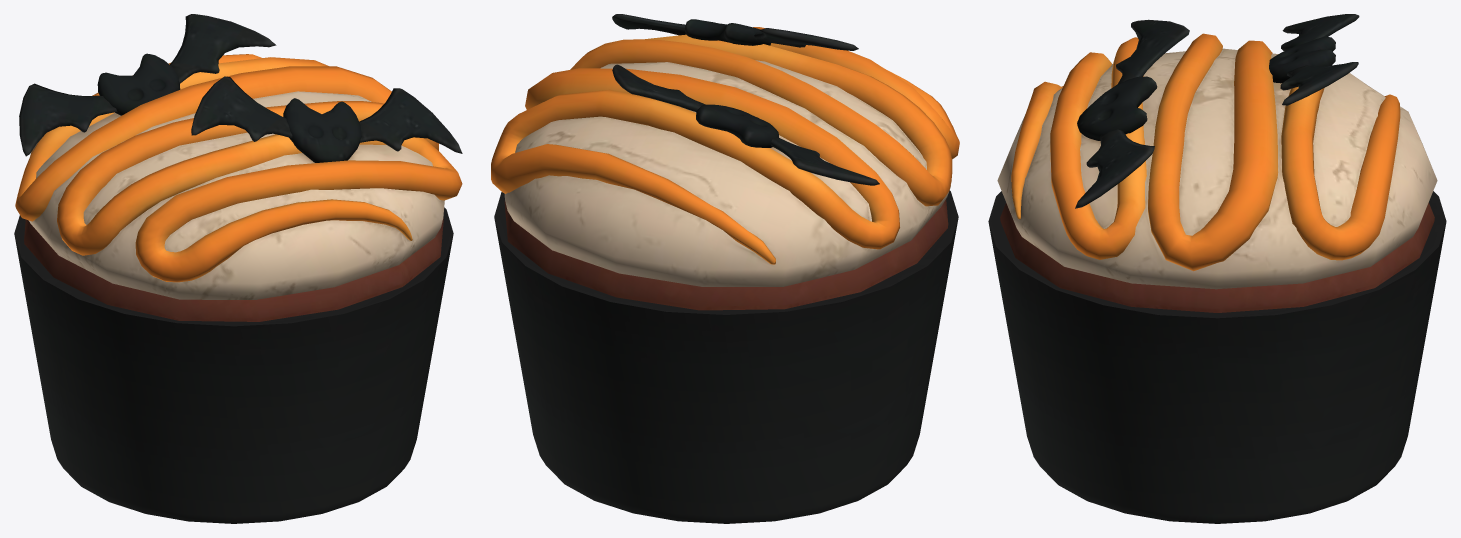
File: bat_cupcake (1)_Compressed-Ultimate.glb
3 renders of one model, left to right at view 1: azimuth 30°, elevation 25°; view 2: azimuth 150°, elevation 25°; view 3: azimuth 270°, elevation 25°, orthographic. The views are drawn at different scales.
Visible parts, largest first — view 1: bat cupcake_bat cupcake_0; view 2: bat cupcake_bat cupcake_0; view 3: bat cupcake_bat cupcake_0.
Part boxes in pixels (box(x1,y1,x2,y2)): bat cupcake_bat cupcake_0: box(14, 14, 462, 523); bat cupcake_bat cupcake_0: box(491, 14, 959, 523); bat cupcake_bat cupcake_0: box(988, 14, 1446, 523).
Size of the model in its own units: 2 by 1.97 by 2.
Materials: 1 (1 with a texture image).
